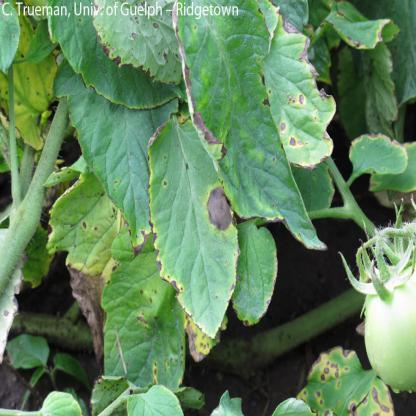Tomato Early blight leaf: (169, 1, 337, 243), (146, 115, 244, 328), (104, 244, 196, 404)
